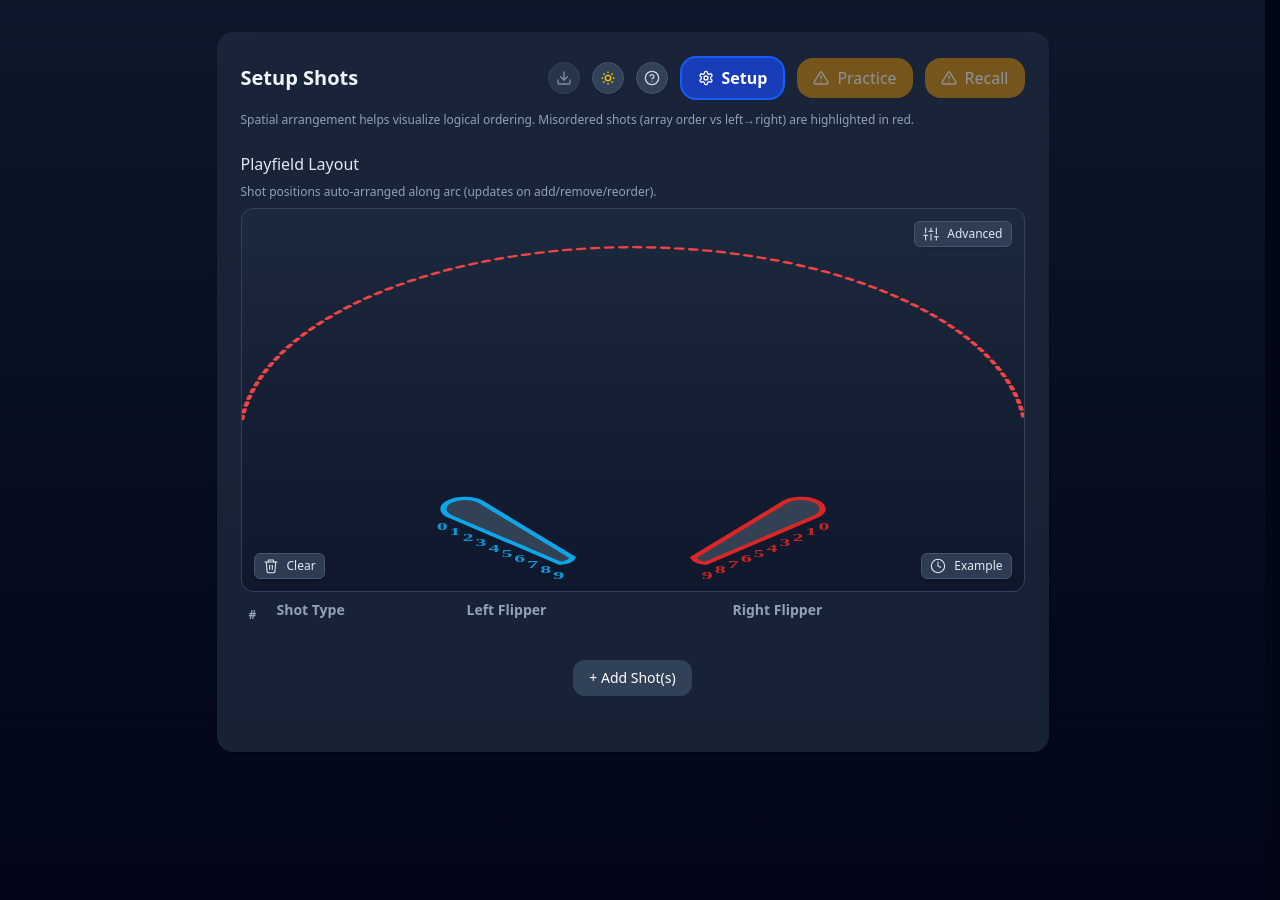
Scenario: App - Comprehensive Integration Tests › should toggle dark mode and verify theme changes
The image size is (1280, 900).
expect the heading "Setup Shots" is shown: met, box [240,64,358,92]
Note: Toggle to light mode
Click the button named "switch to light mode" at [608, 78], box [592,62,624,94]
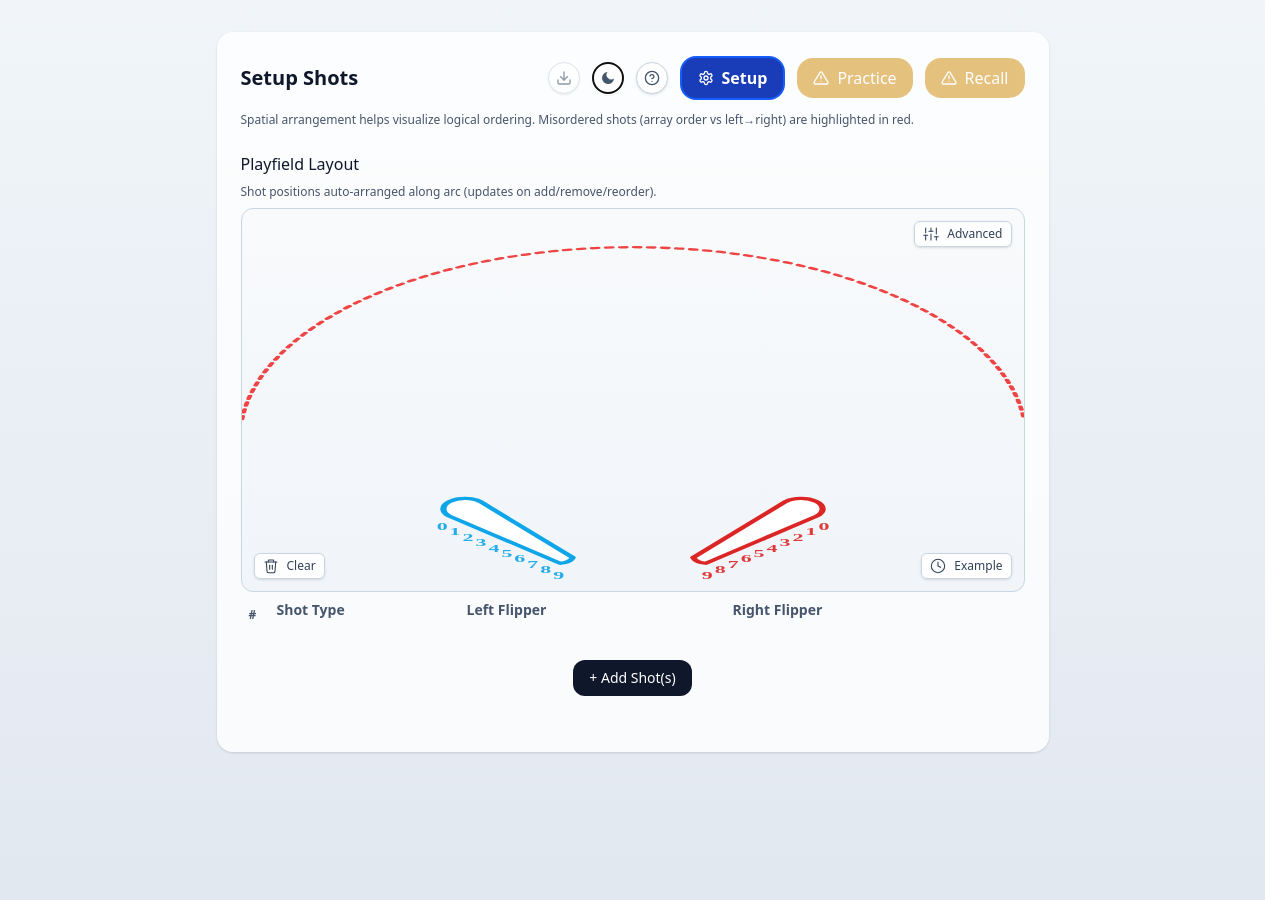
expect the button named "switch to dark mode" is shown: met
Note: Toggle back to dark mode
Click the button named "switch to dark mode" at [608, 78], box [592,62,624,94]
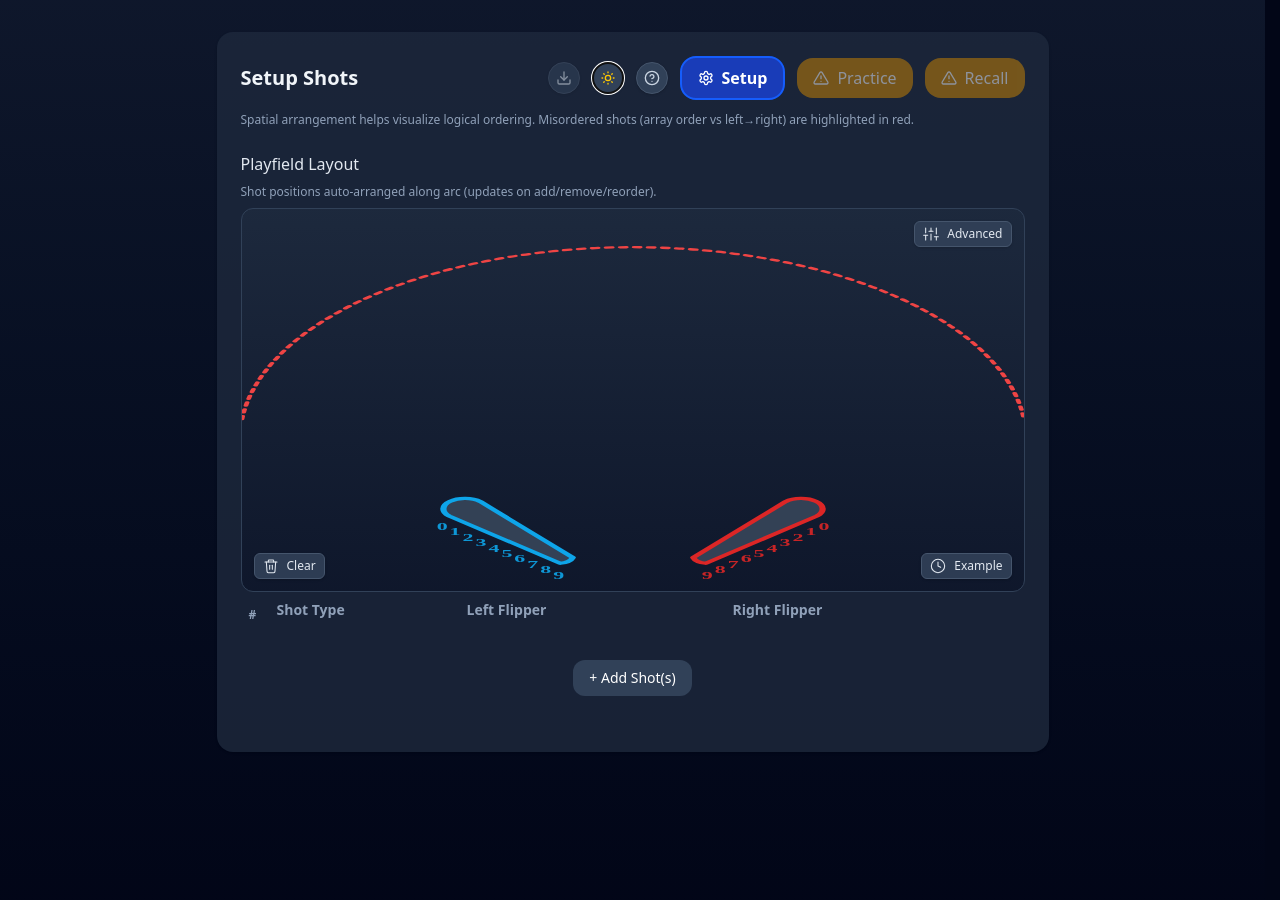
expect the button named "switch to light mode" is shown: met, box [592,62,624,94]
